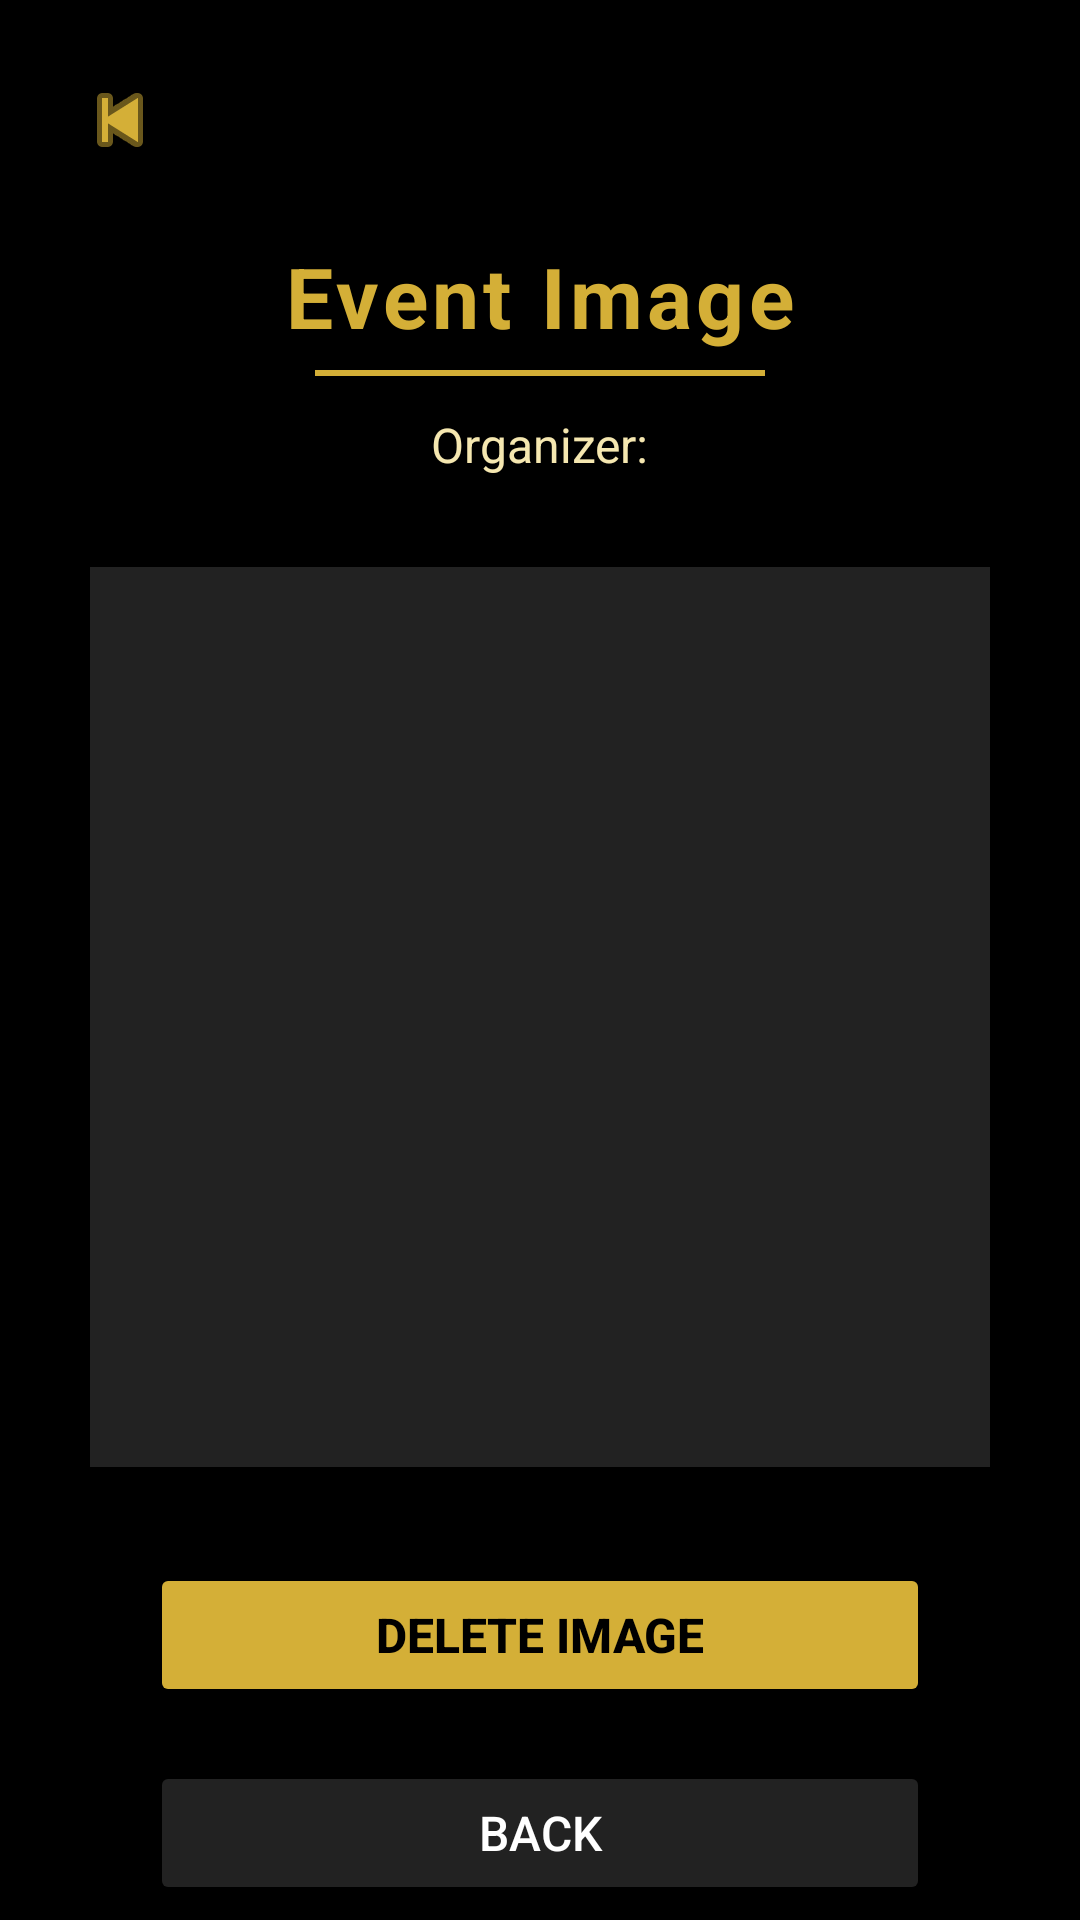

Screen size 1080×1920. Icon name, then its box in pixels as (x1, y1, x2, y2):
previous: (97, 93, 143, 147)
